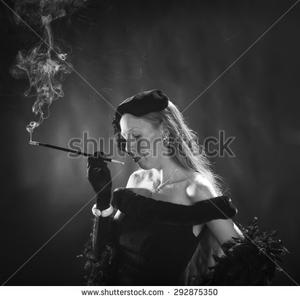cigarette: (26, 136, 47, 150)
